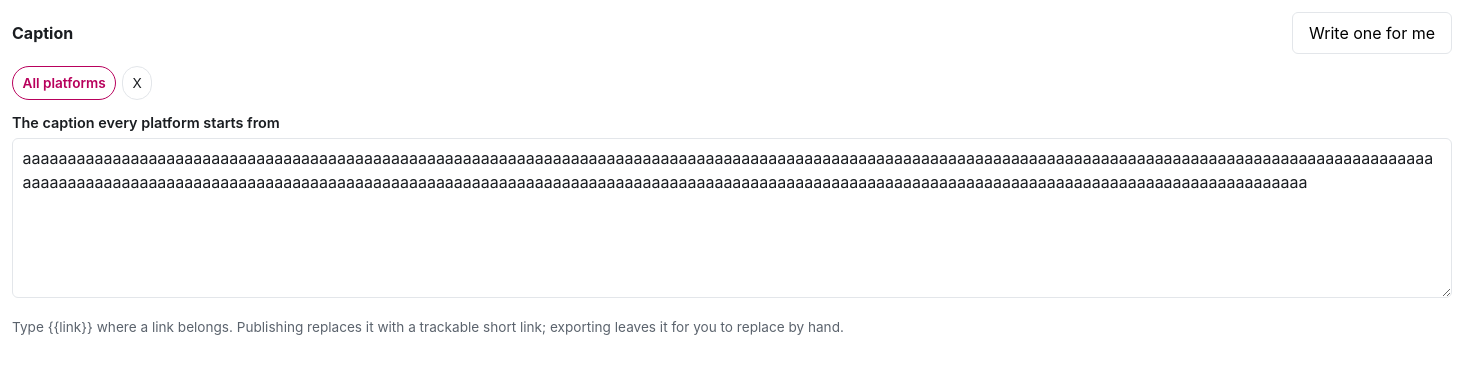
CaptionPanel › says how much to cut when a caption is over the limit
Click the tab "X".
click(137, 83)  # box x1=122 y1=66 x2=152 y2=100
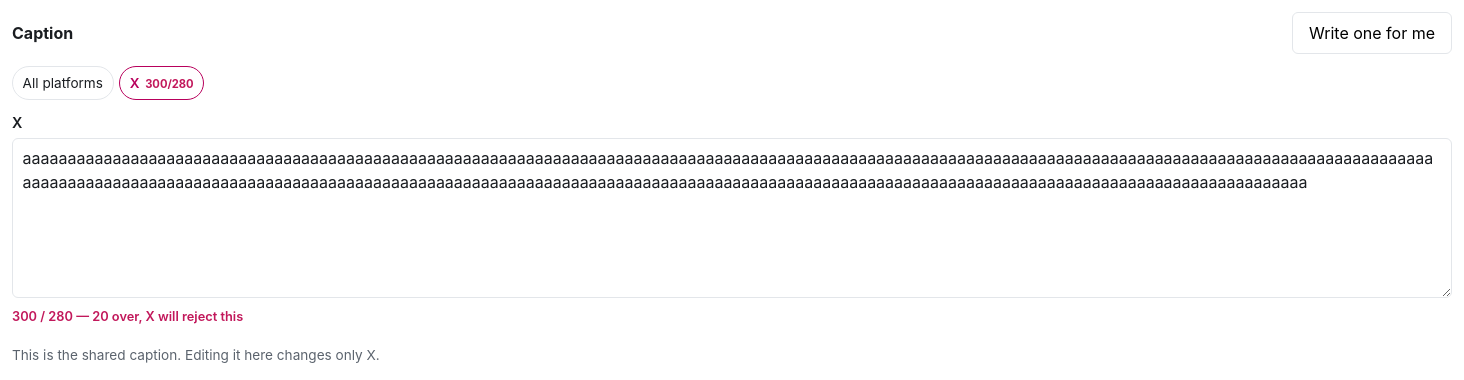
expect the text "300 / 280 — 20 over, X will reject this" is shown: met, box x1=12 y1=309 x2=243 y2=324
